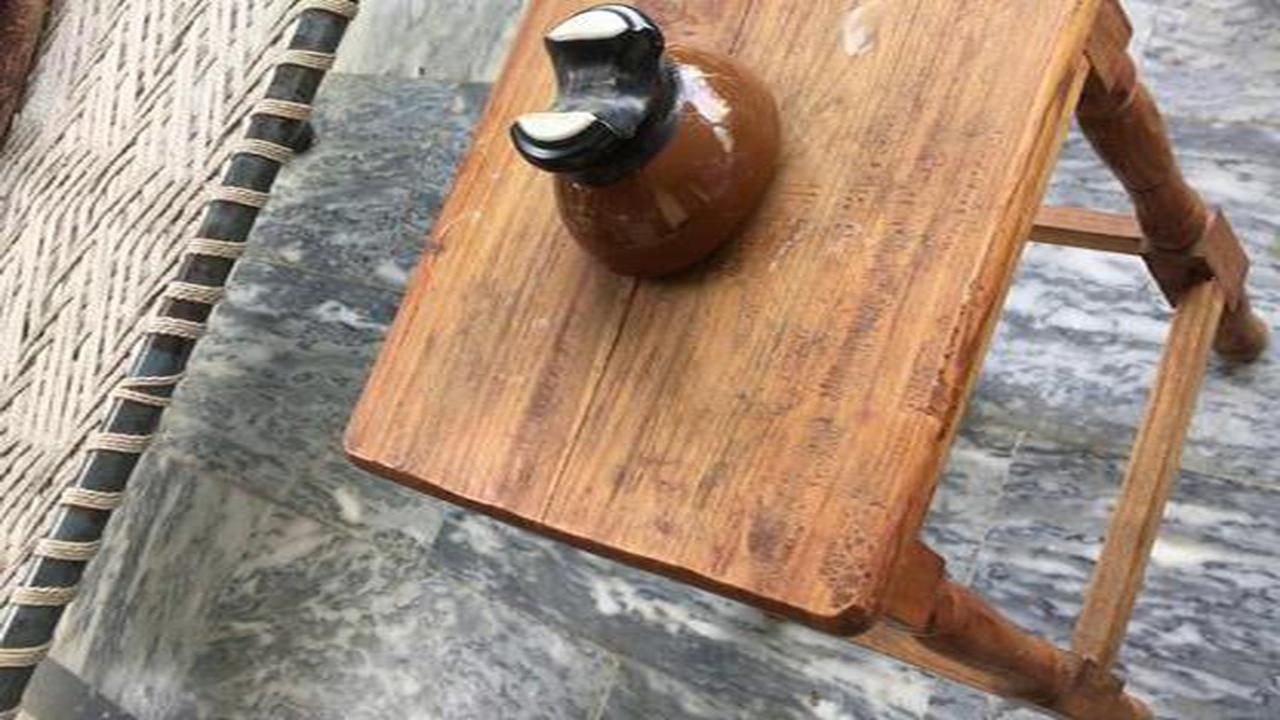insulator_pin: (502, 14, 801, 296)
